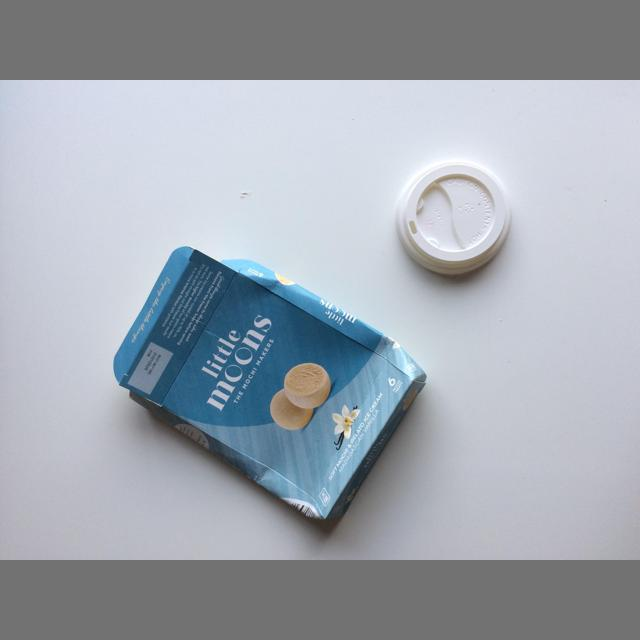litter: (114, 246, 427, 520), (395, 155, 512, 275)
